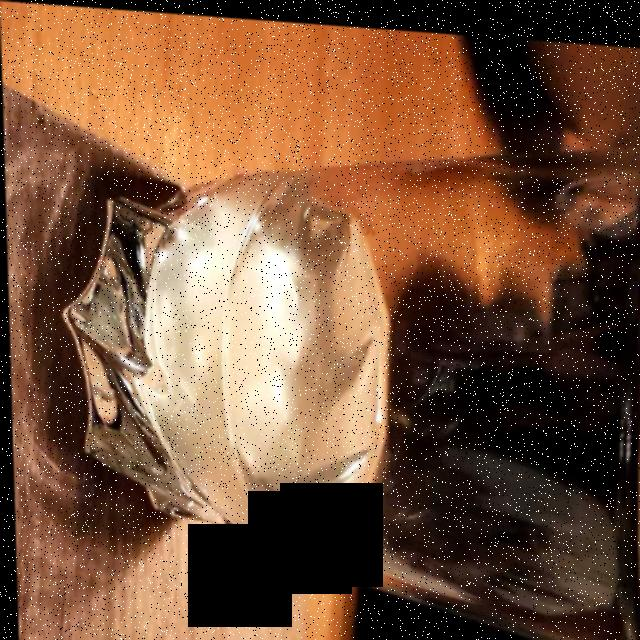kefir-drink: (116, 162, 578, 600)
